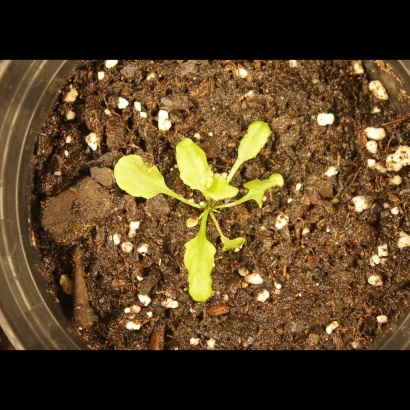leaf: (180, 226, 221, 313), (113, 148, 168, 206), (171, 133, 215, 194), (234, 114, 271, 174), (237, 171, 292, 211), (213, 225, 255, 260), (200, 170, 237, 209)
